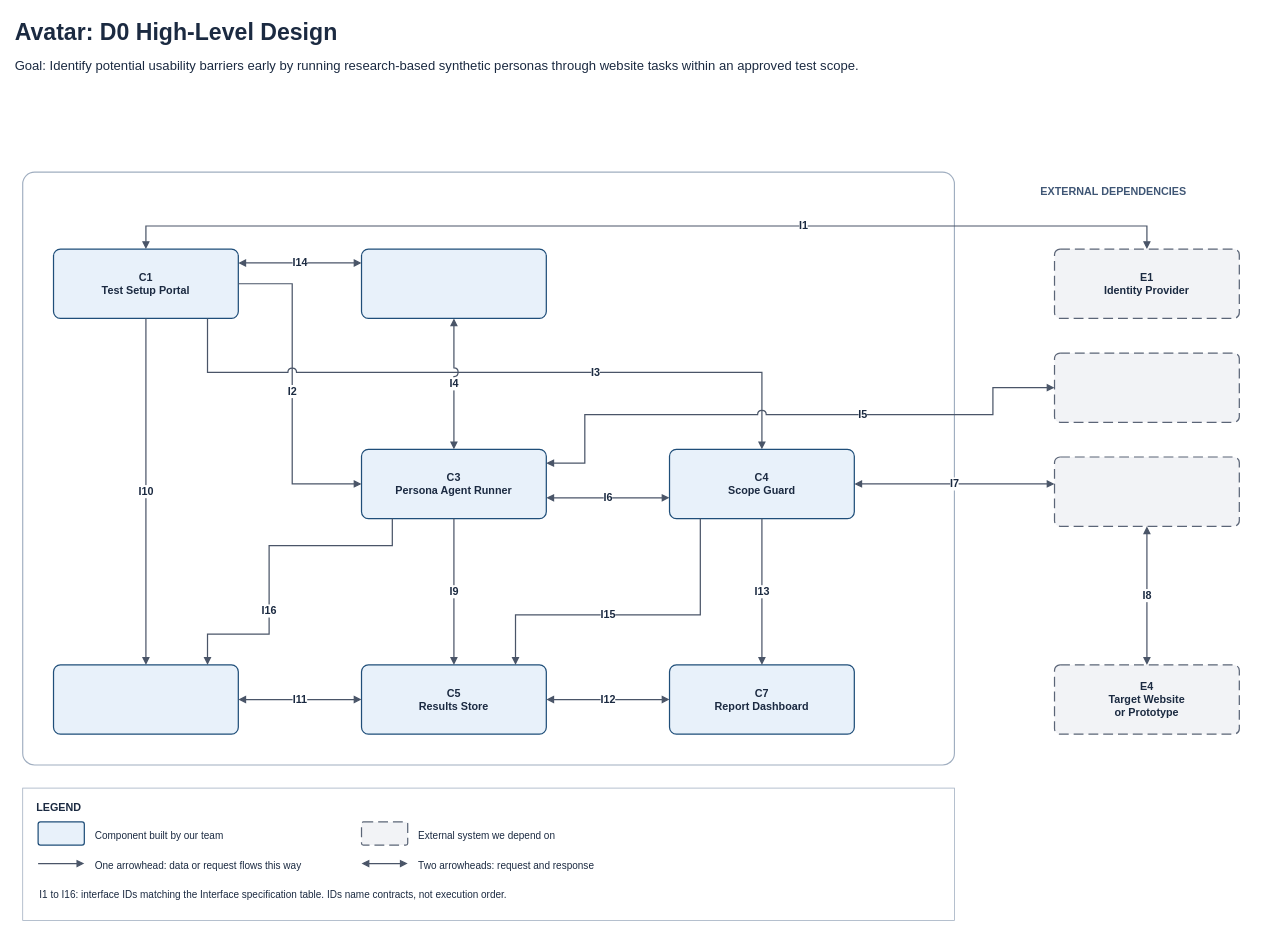
This 1283x934 diagram has some shape labels left out. The shapes that lost their labels are listed below. From the top down, each one's centre as x and y in pixels, then its label:
At [454,283]: "C2 Persona Library".
At [1147,387]: "E2 AI Model Service".
At [1147,491]: "E3 Browser Execution Environment".
At [146,699]: "C6 Findings Prioritizer".
